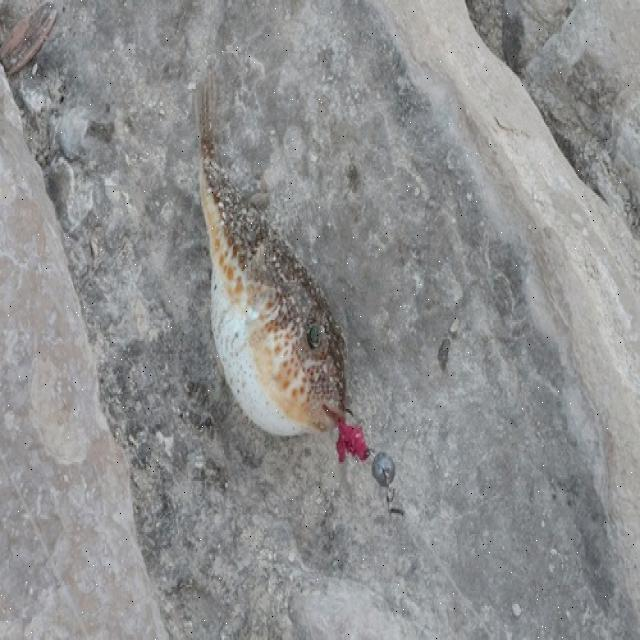Balik: (196, 72, 345, 435)
